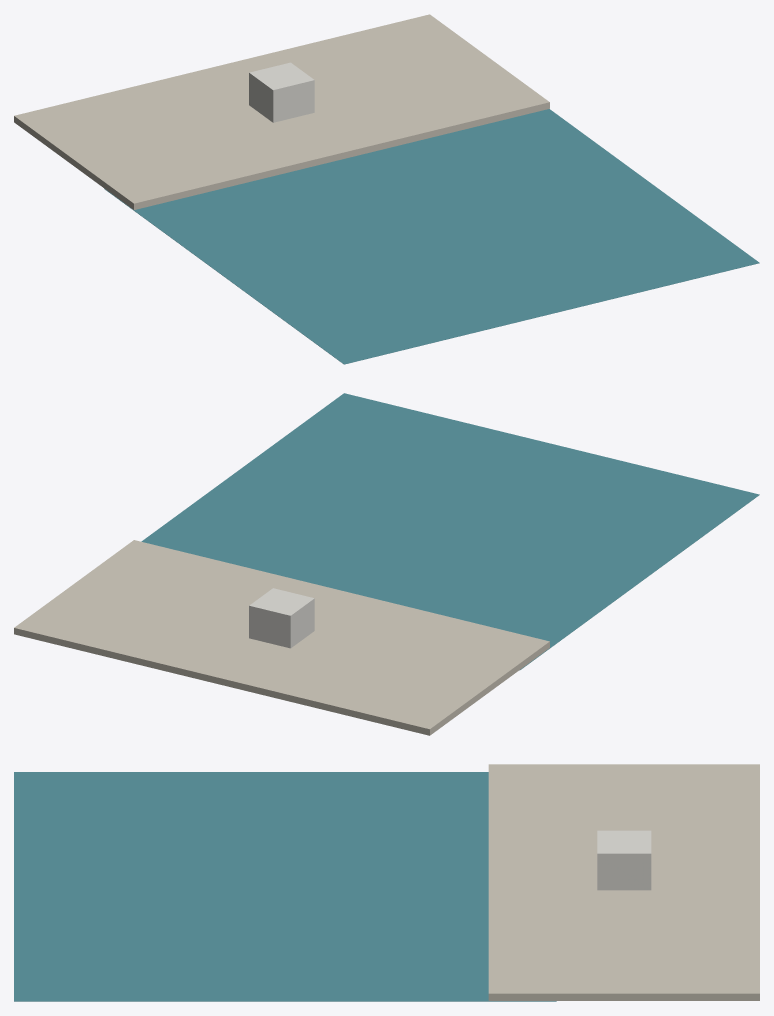
File: site-env.glb
The picture shows the model from 3 angles, top to bottom: view 1: azimuth 30°, elevation 25°; view 2: azimuth 150°, elevation 25°; view 3: azimuth 270°, elevation 25°; orthographic projection. The views are drawn at different scales.
Visible parts, largest first — view 1: sea-1, land-1, 20-t-0001; view 2: sea-1, land-1, 20-t-0001; view 3: sea-1, land-1, 20-t-0001.
Boxes of the visible parts, x1,y1,x2,y2 form: sea-1: (104, 109, 759, 364); land-1: (14, 14, 549, 209); 20-t-0001: (249, 62, 314, 122); sea-1: (141, 393, 759, 670); land-1: (14, 540, 549, 735); 20-t-0001: (249, 588, 314, 648); sea-1: (14, 772, 556, 1001); land-1: (488, 764, 759, 1000); 20-t-0001: (597, 830, 651, 890).
Bounding box in the file's own units: 400 × 36.6 × 550.
